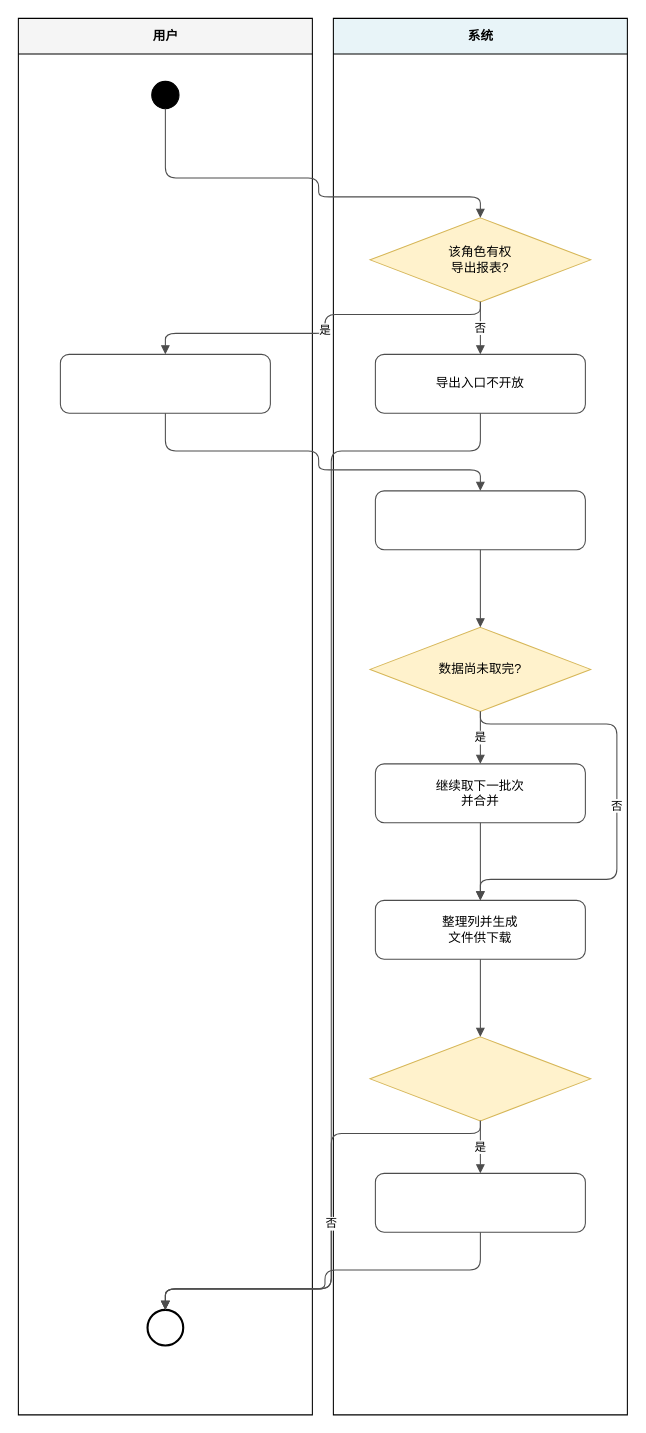
Some shapes in this 646 by 1433 pixel diagram are drawn without their labels. The centre of each missing label's shape, as x and y in pixels:
"中止导出 并说明原因" belongs at [479,1202].
"取出第一批次数据" belongs at [479,520].
"取数或生成失败?" belongs at [480,1078].
"选择导出 物种／观测报表" belongs at [164,383].
